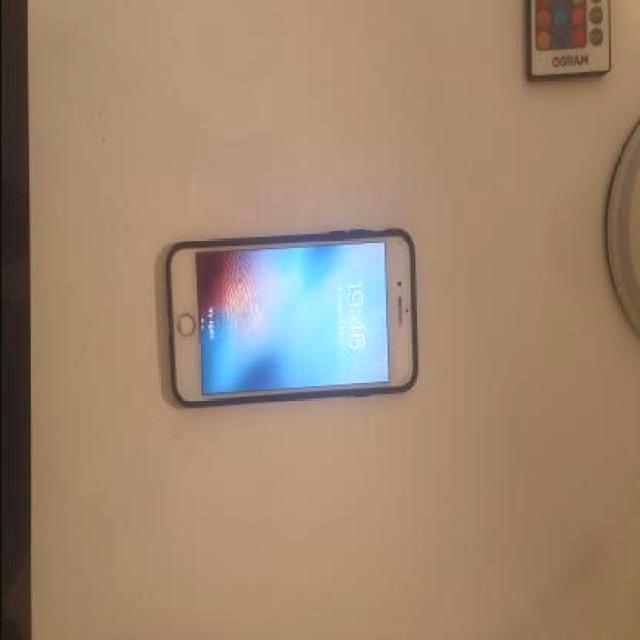phone: (158, 232, 416, 406)
